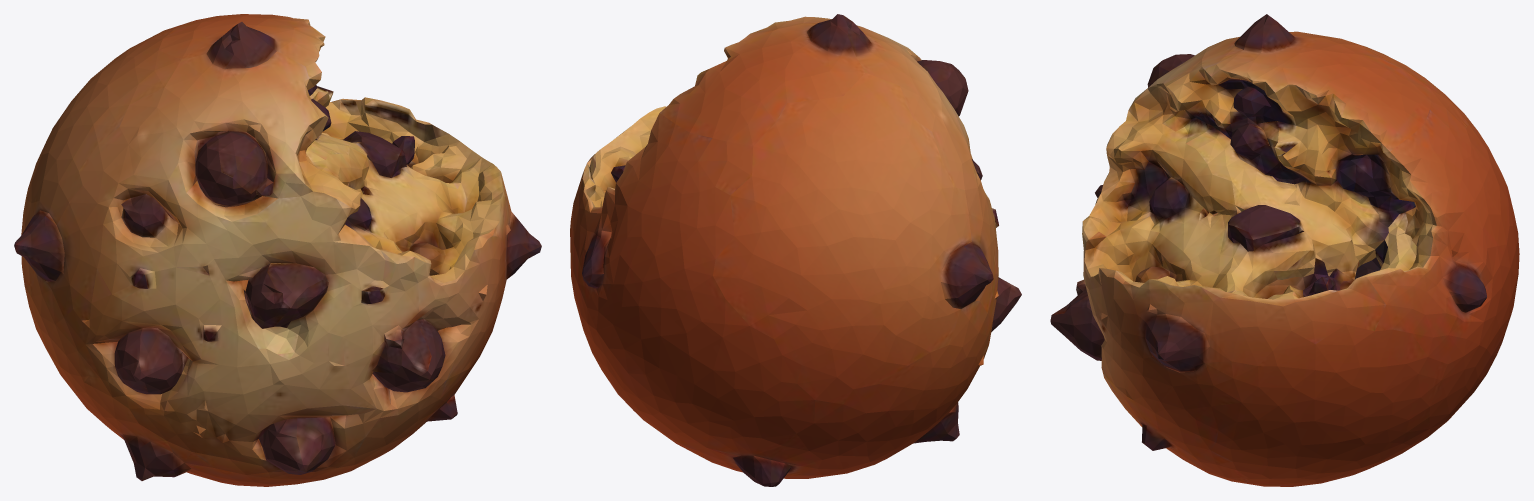
Rendered from cookie.glb.
The picture shows the model from 3 angles, left to right: view 1: azimuth 30°, elevation 25°; view 2: azimuth 150°, elevation 25°; view 3: azimuth 270°, elevation 25°; orthographic projection. The views are drawn at different scales.
Visible parts, largest first — view 1: tmpz1t33c4j.ply; view 2: tmpz1t33c4j.ply; view 3: tmpz1t33c4j.ply.
Boxes of the visible parts, x1,y1,x2,y2 form: tmpz1t33c4j.ply: (14,14,541,486); tmpz1t33c4j.ply: (570,14,1021,486); tmpz1t33c4j.ply: (1050,14,1519,486).
Size of the model in its own units: 1.98 by 1.99 by 1.95.
Materials: 1 (1 with a texture image).
